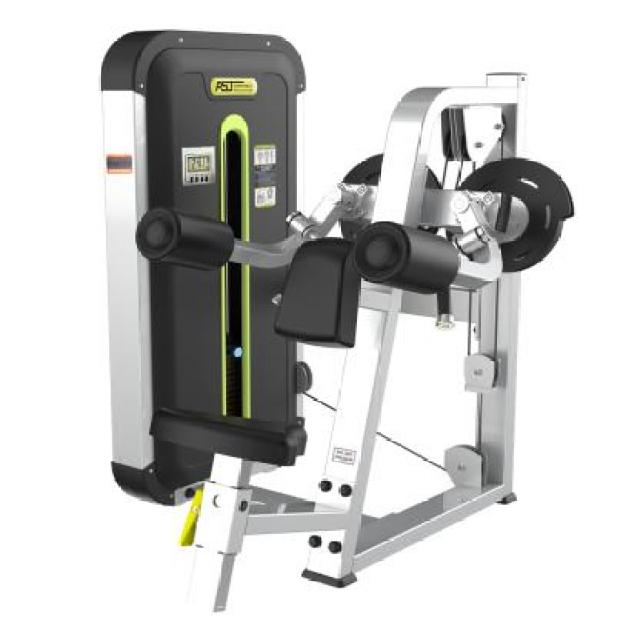lateral raises machine: (101, 29, 577, 628)
